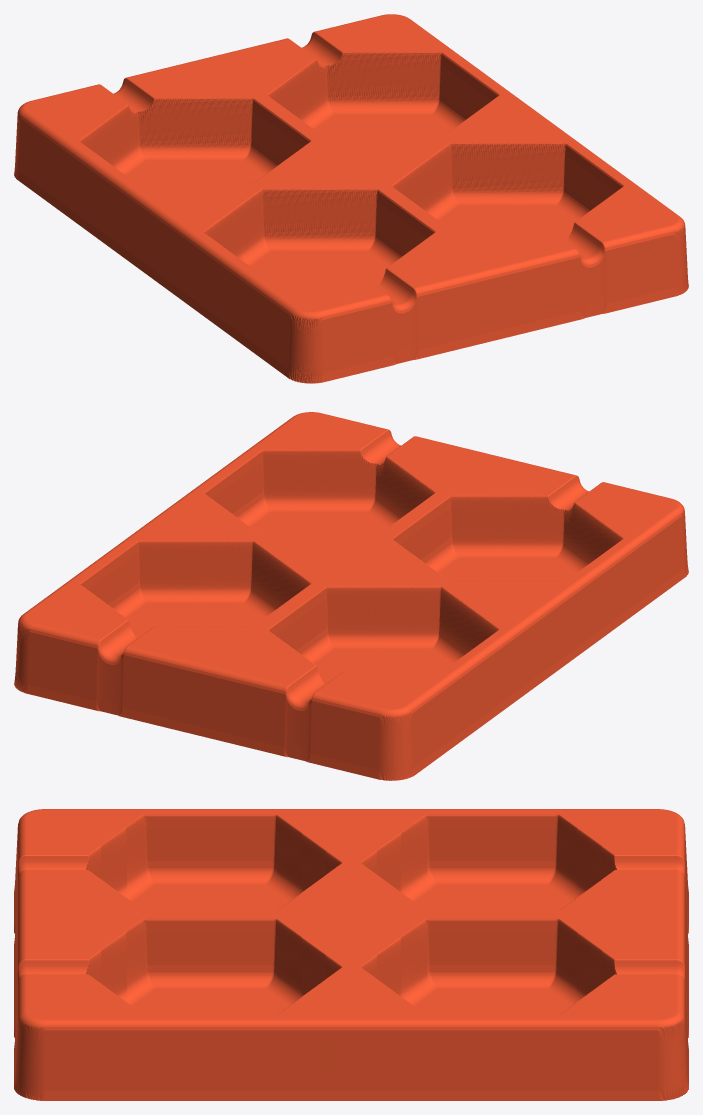
The model's file is mold.glb.
3 renders of one model, top to bottom at view 1: azimuth 30°, elevation 25°; view 2: azimuth 150°, elevation 25°; view 3: azimuth 270°, elevation 25°, orthographic. The views are drawn at different scales.
Parts seen in each view (by area): view 1: geometry_0; view 2: geometry_0; view 3: geometry_0.
Part boxes in pixels (x1,y1,x2,y2): geometry_0: (14,14,688,383); geometry_0: (14,412,688,780); geometry_0: (14,809,688,1100).
Bounding box in the file's own units: 0.1519 × 0.0245 × 0.1968.
